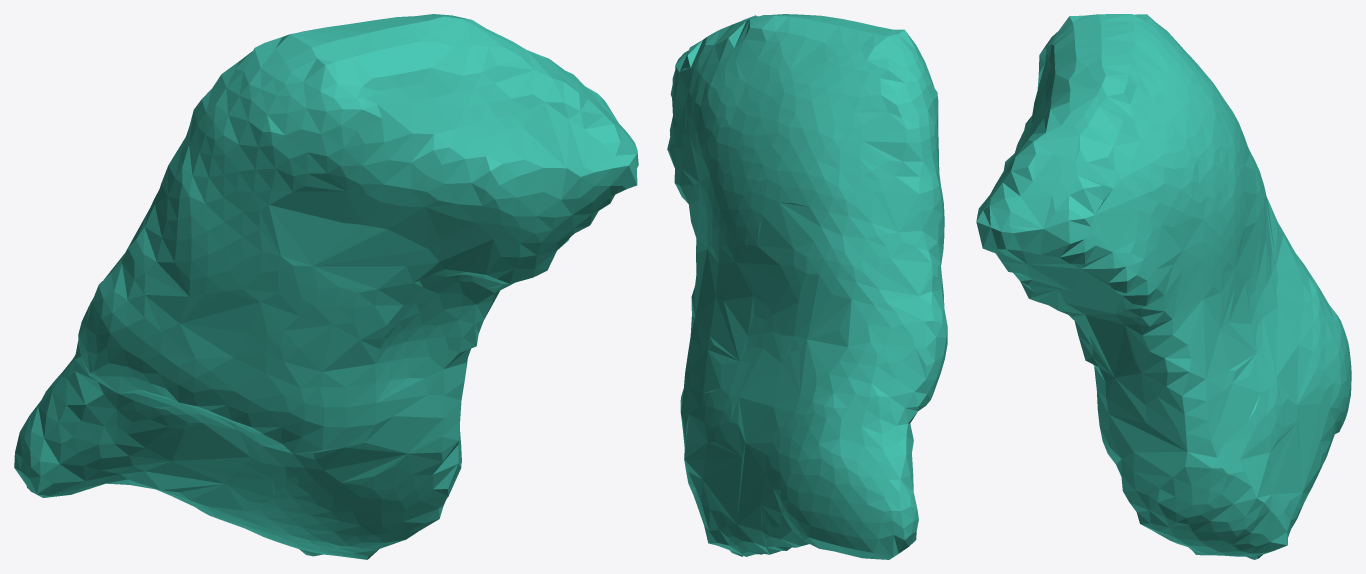
File: Model_225_RH__Substantia_nigra__reticular_part_(SNR).obj
3 views of the same model, side by side, from view 1: azimuth 30°, elevation 25°; view 2: azimuth 150°, elevation 25°; view 3: azimuth 270°, elevation 25° (orthographic). The views are drawn at different scales.
Size of the model in its own units: 2.06 by 2.66 by 1.78.
